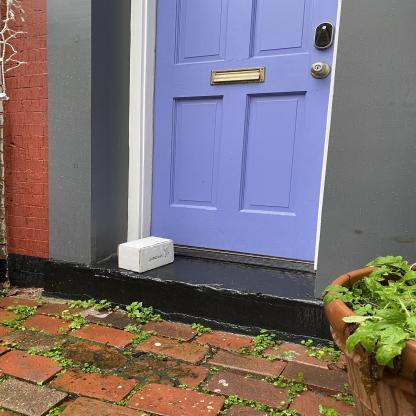package: (113, 233, 177, 276)
